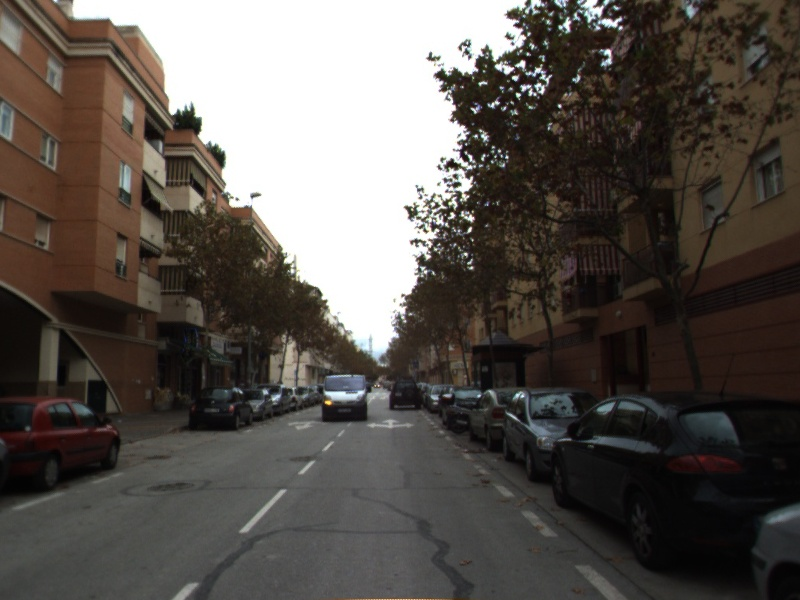STRAIGHT_LEFT_RIGHT: (365, 417, 417, 431)
